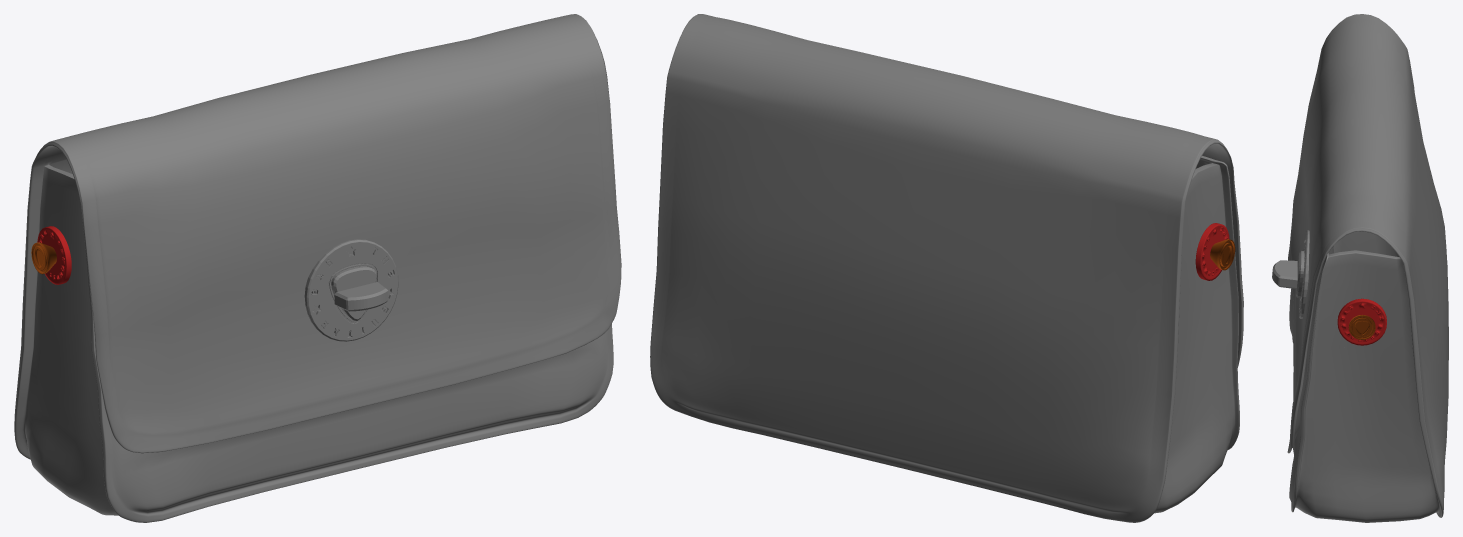
File: MARK.fbx
3 views of the same model, side by side, from view 1: azimuth 30°, elevation 25°; view 2: azimuth 150°, elevation 25°; view 3: azimuth 270°, elevation 25° (orthographic). The views are drawn at different scales.
Visible parts, largest first — view 1: Cartera_v013; view 2: Cartera_v013; view 3: Cartera_v013.
Boxes of the visible parts, x1=… form: Cartera_v013: x1=14, y1=14, x2=621, y2=522; Cartera_v013: x1=650, y1=14, x2=1243, y2=522; Cartera_v013: x1=1272, y1=14, x2=1448, y2=522.
Size of the model in its own units: 26.87 by 16.87 by 8.75.
